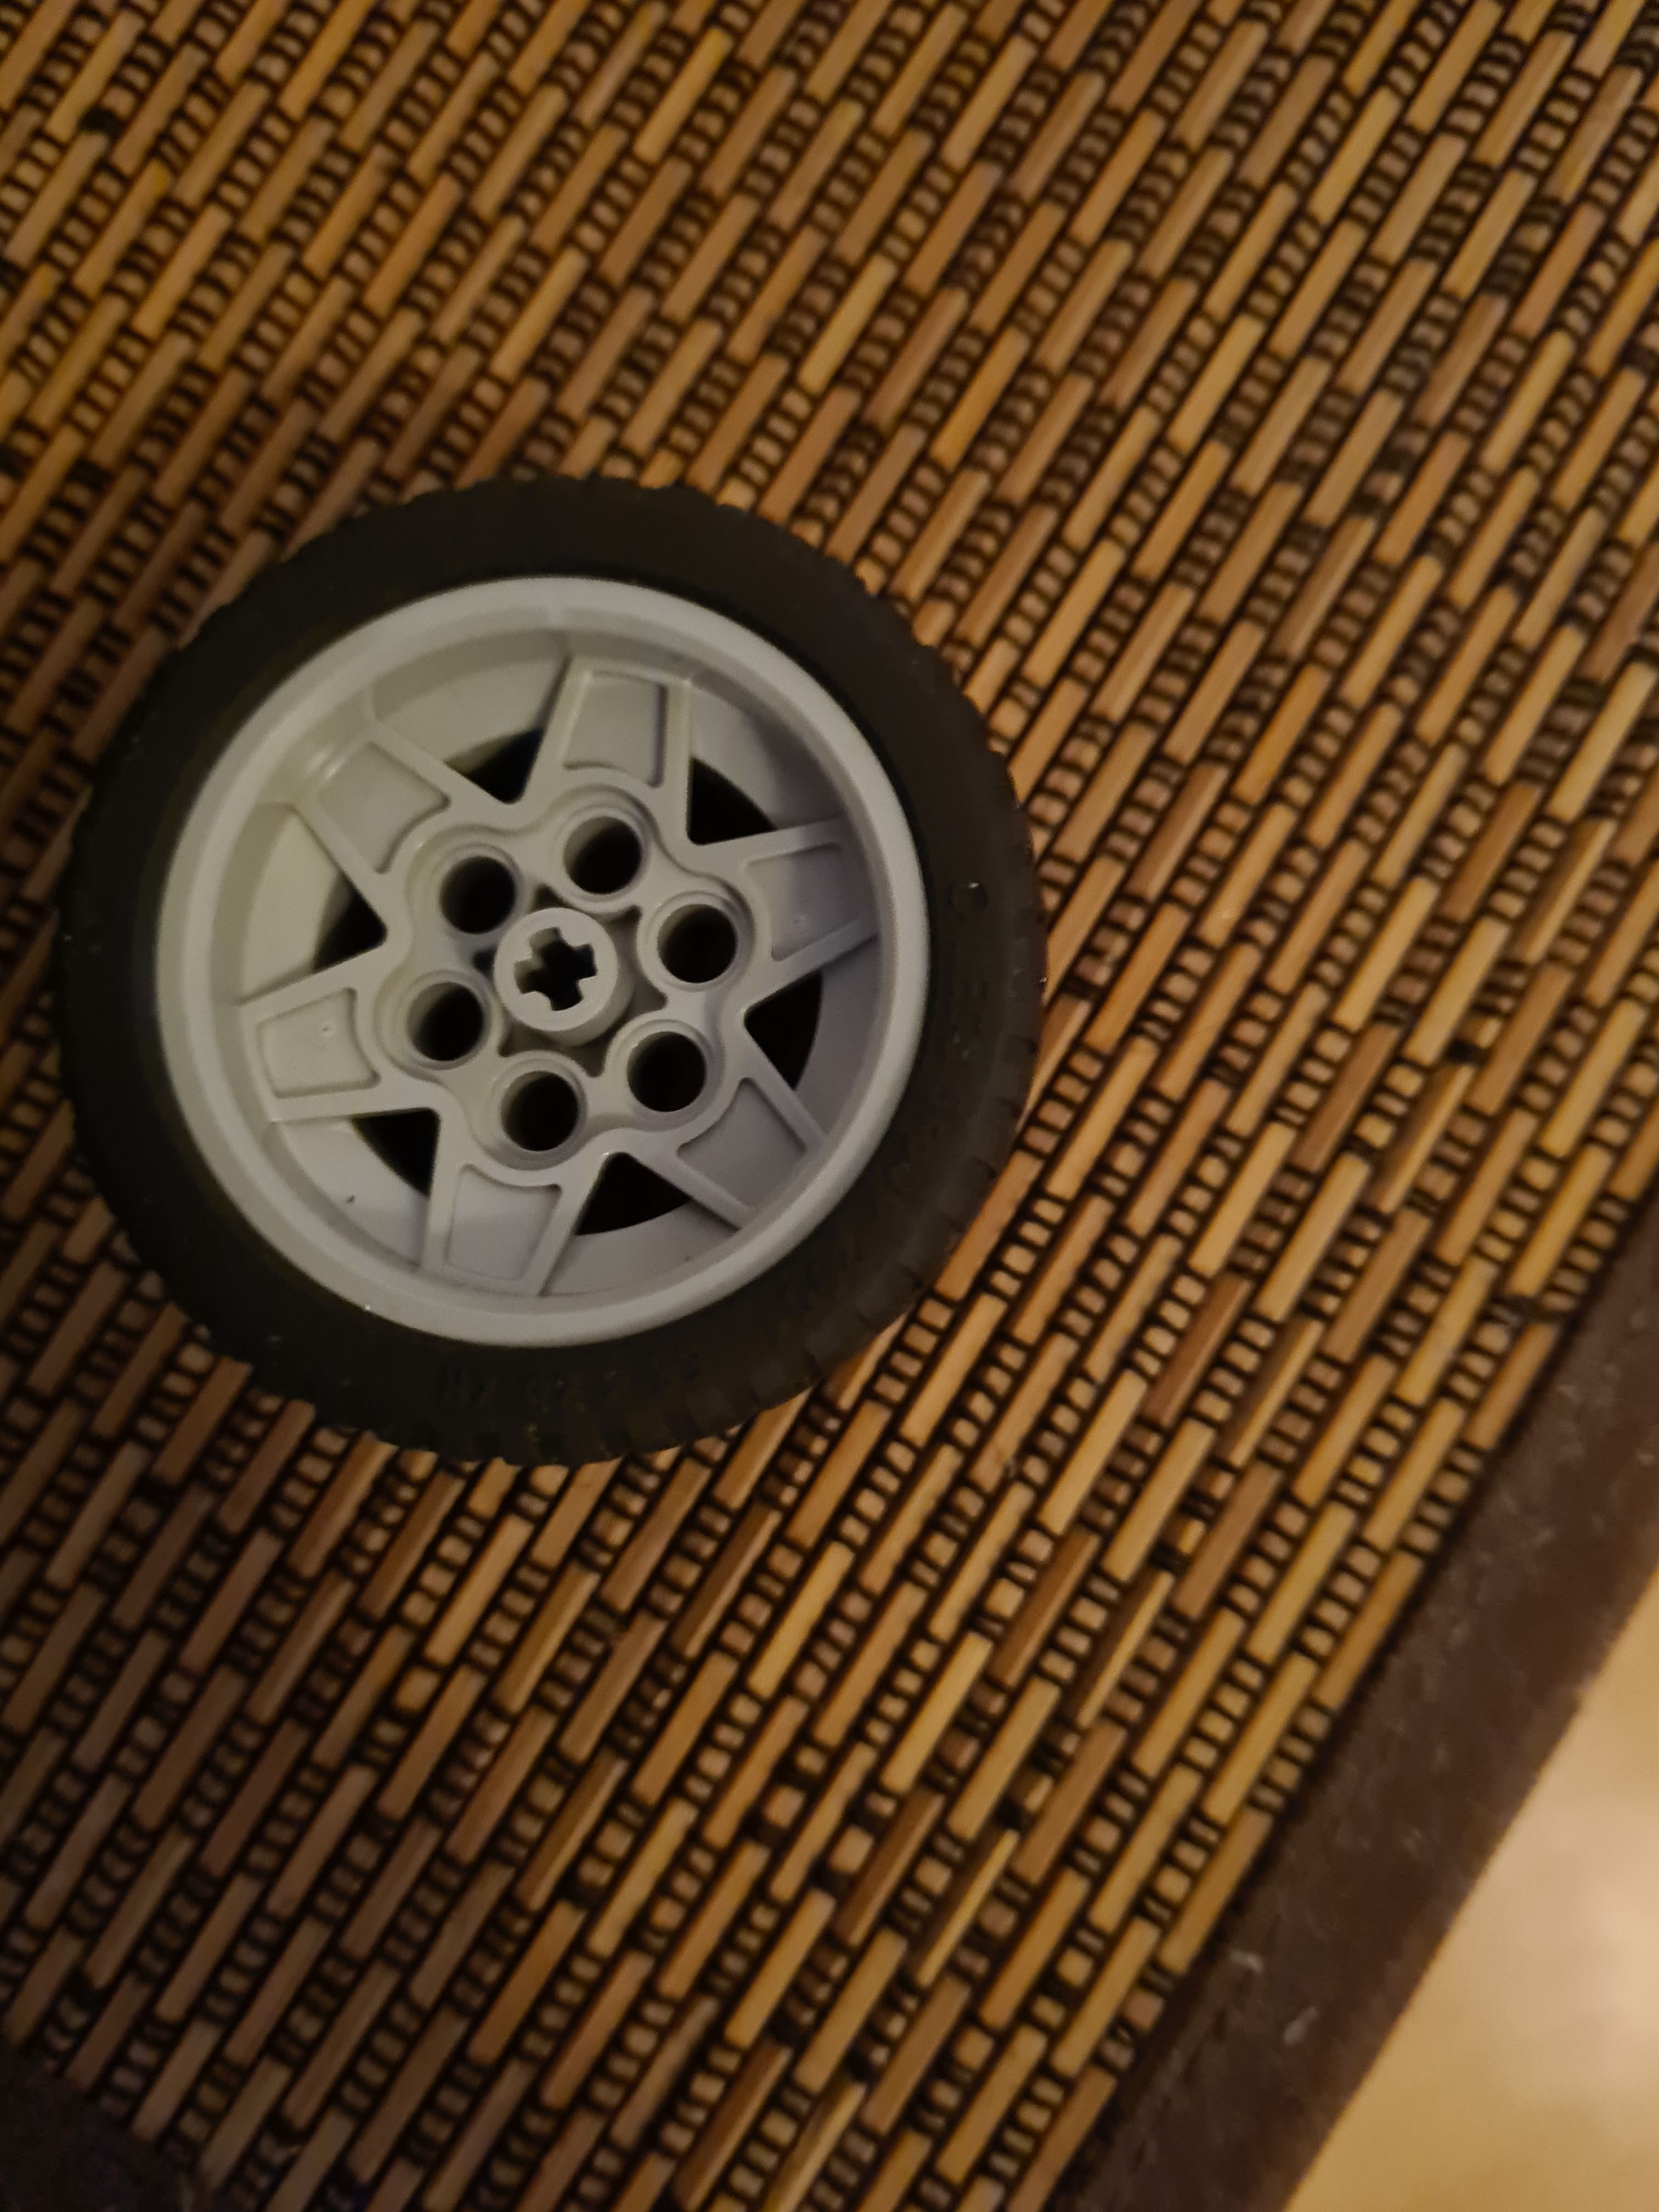Rad: (37, 463, 1080, 1474)
